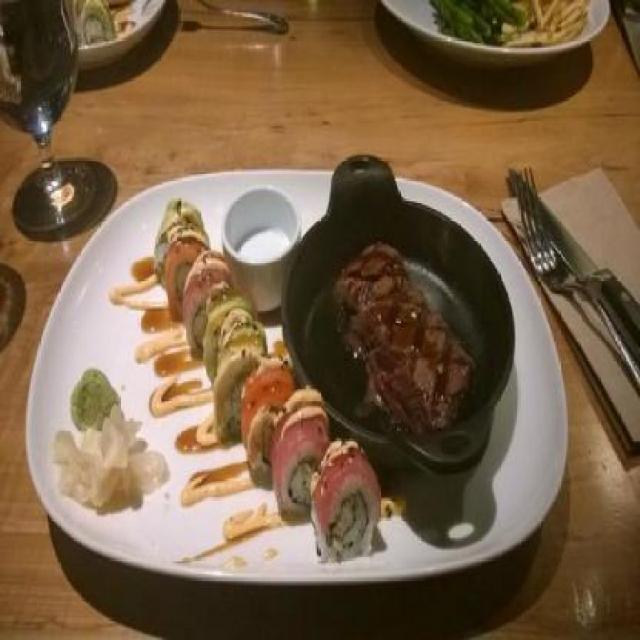steak: (335, 246, 470, 425)
sushi: (140, 195, 374, 559), (73, 2, 122, 56)
